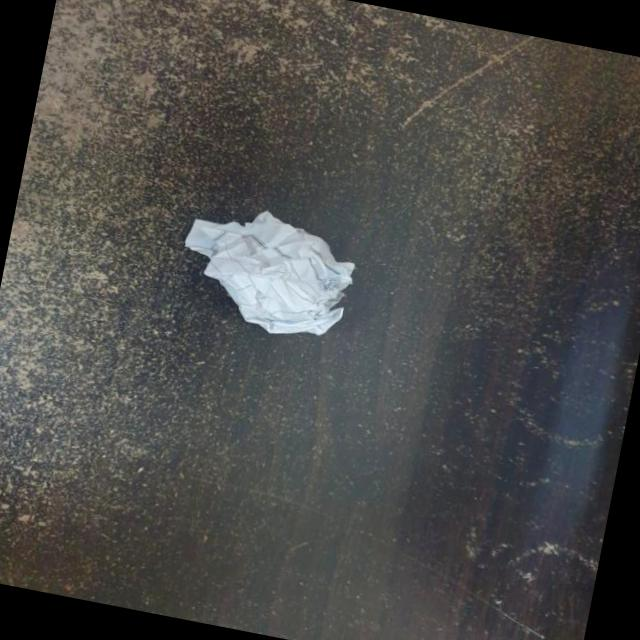cardboard paper: (187, 213, 356, 335)
